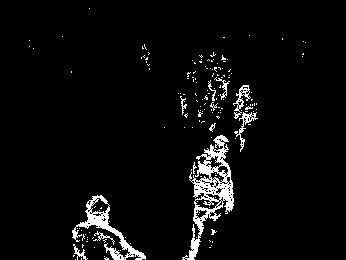person: (186, 135, 236, 260), (70, 195, 146, 260), (234, 84, 258, 152)
